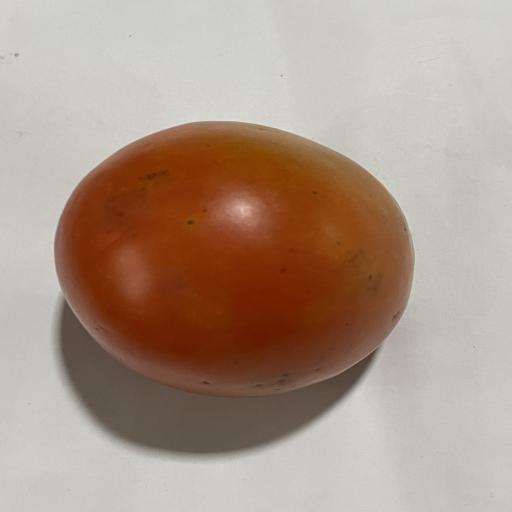unripe: (54, 121, 414, 397)
